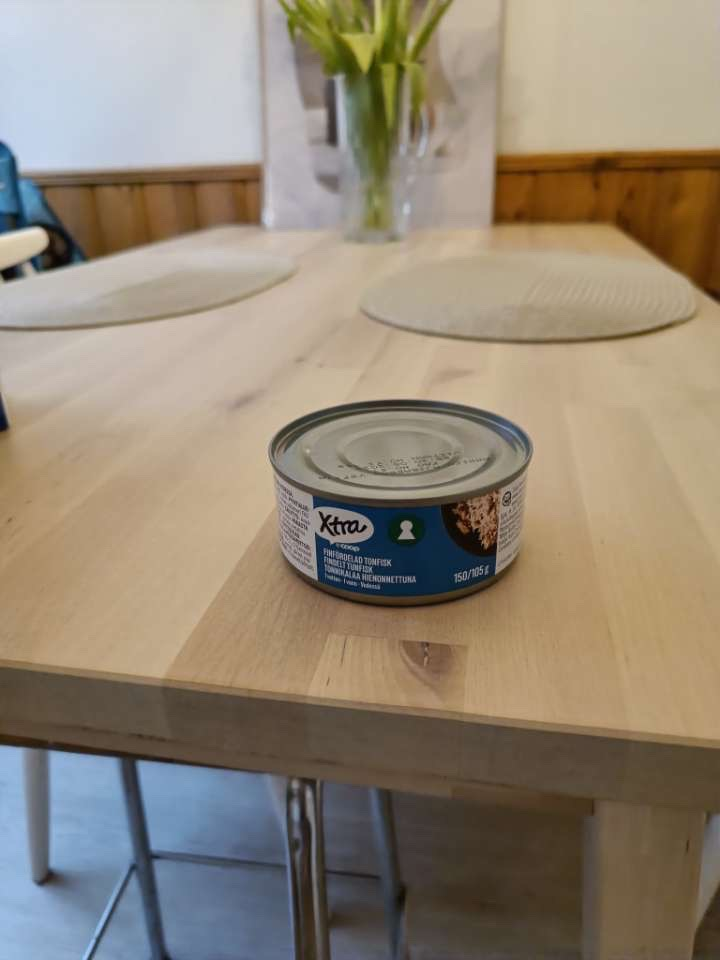Konservburk: (267, 401, 550, 608)
